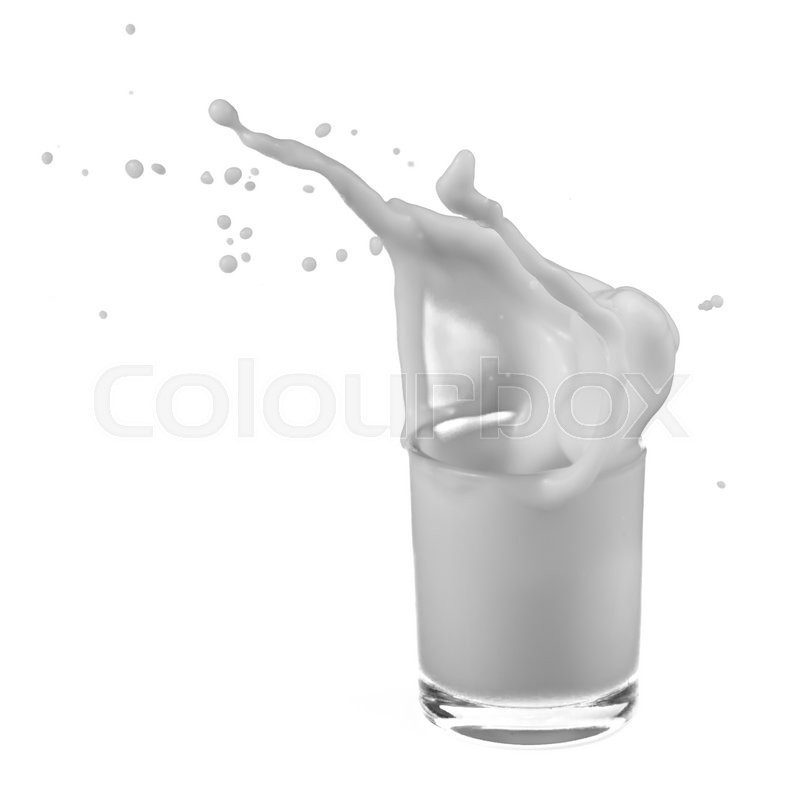glass of milk: (406, 428, 647, 744)
